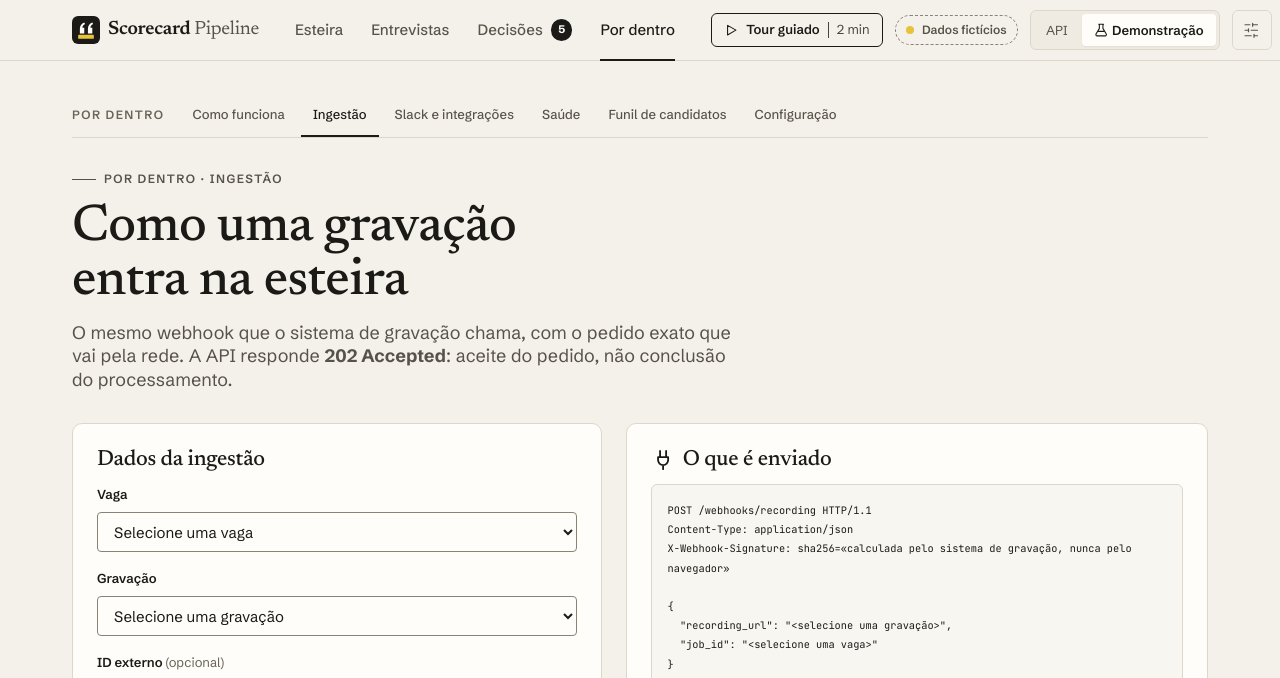
Test: demo mode isolation › creates an interview offline and deduplicates a repeated external_id
Expected: the heading "Como uma gravação entra na esteira" is shown, 72,202 -> 516,308
Select "Desenvolvedor Python Pleno (python_pleno)" in the dropdown labelled "Vaga" at [337, 532], box 97,512 -> 576,552
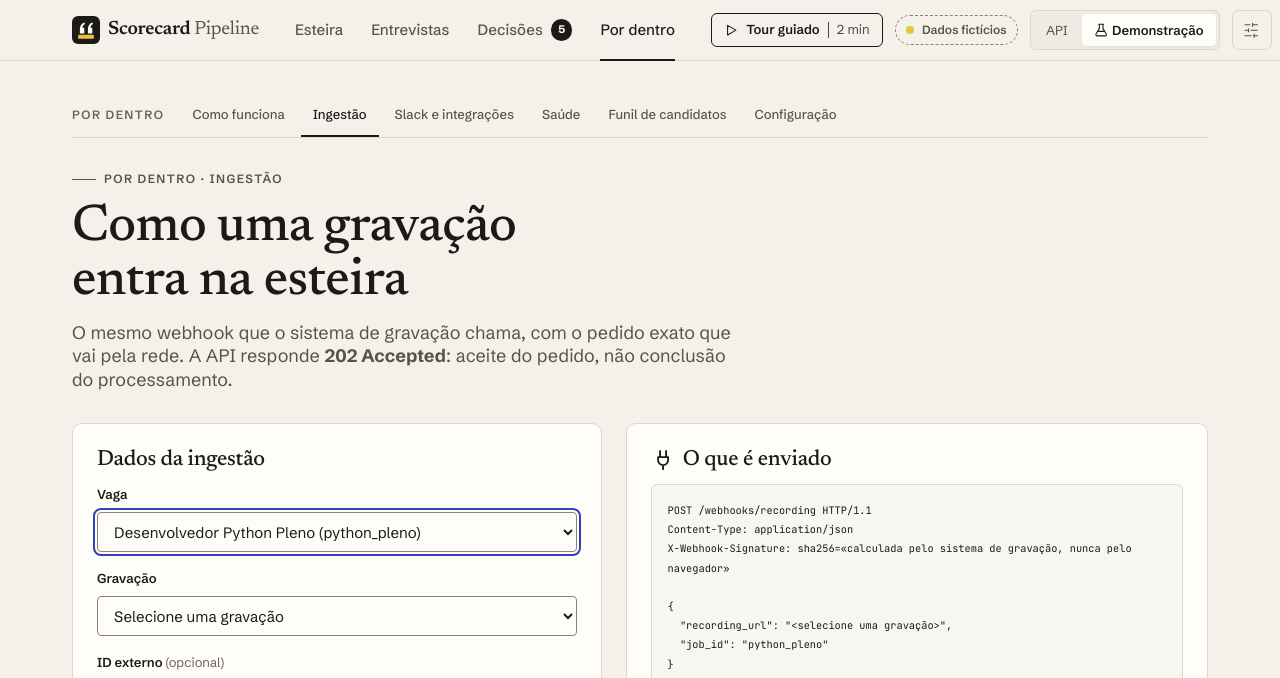
Select "interview_python_pleno.wav" in the dropdown labelled "Gravação" at [337, 616], box 97,596 -> 576,636
(page scrolled)
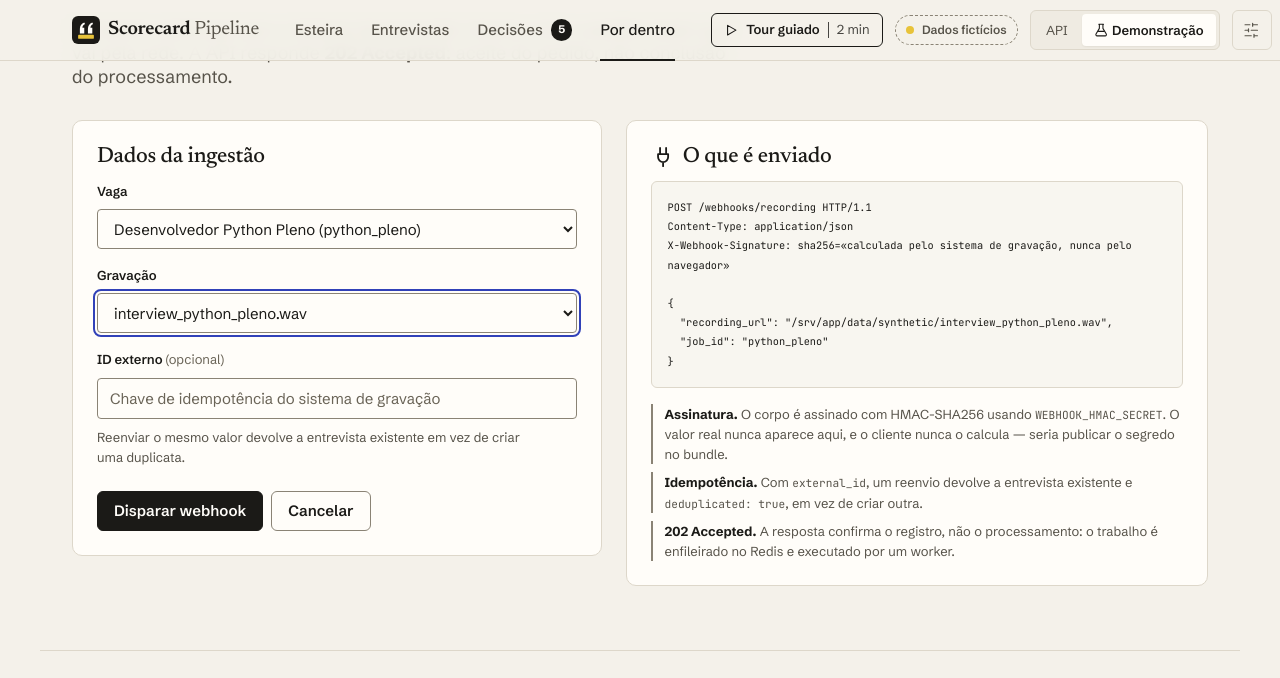
Type "zoom-rec-8841-b" into the field labelled "ID externo (opcional)" at [337, 398], box 97,378 -> 576,419
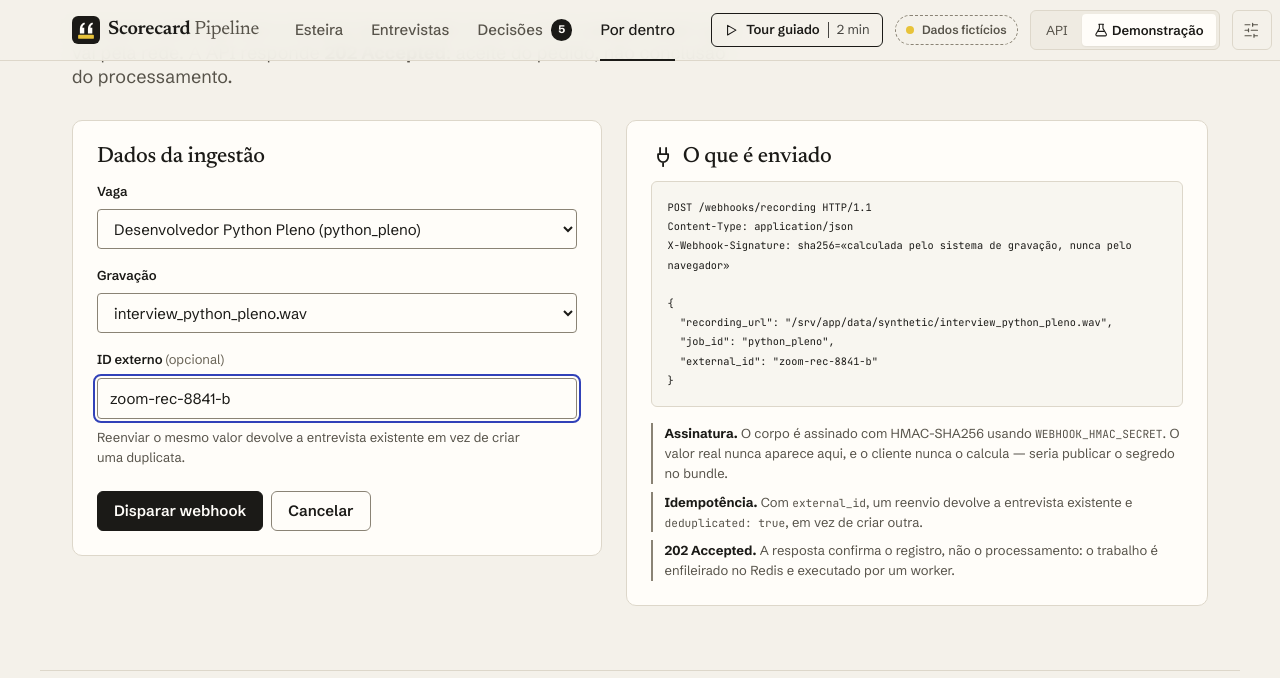
Click the button "Disparar webhook" at [180, 511], box 97,491 -> 263,531
(page scrolled)
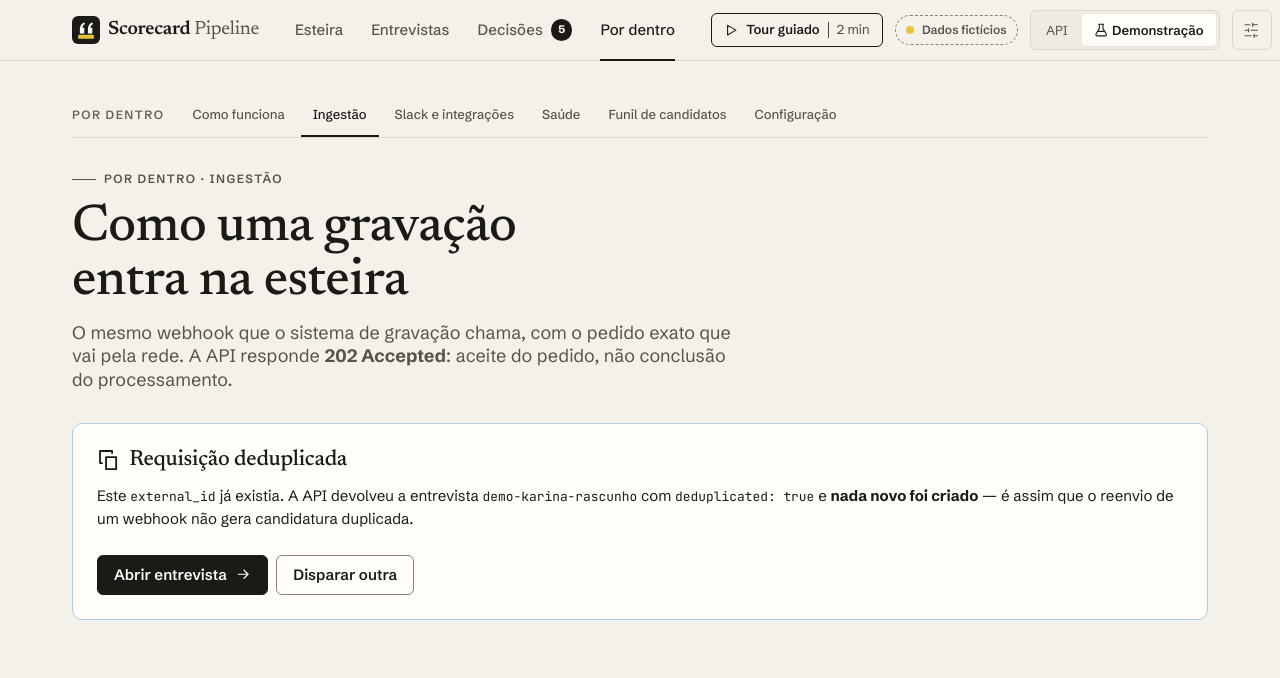
Result: the heading "Requisição deduplicada" is shown at 97,448 -> 347,472
Result: the text "nada novo foi criado" is shown at 831,486 -> 978,505
